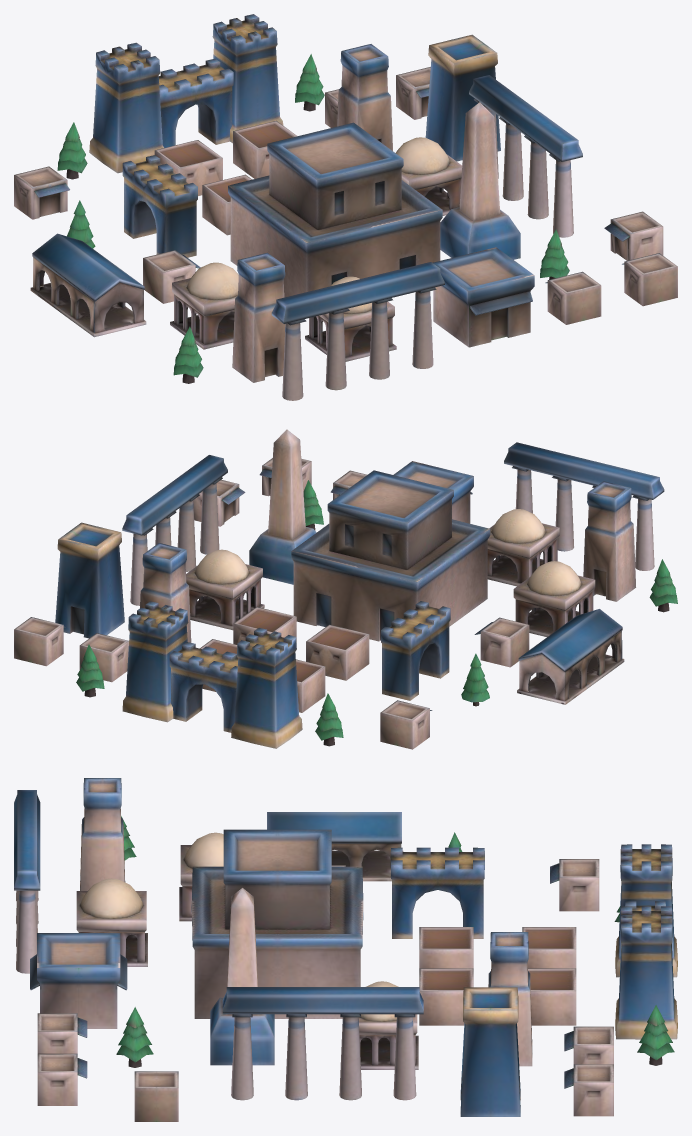
The model's file is city_babylonian_2.glb.
3 views of the same model, one above another, from view 1: azimuth 30°, elevation 25°; view 2: azimuth 150°, elevation 25°; view 3: azimuth 270°, elevation 25° (orthographic). The views are drawn at different scales.
Visible parts, largest first — view 1: 3_low.038, 1_low.019, 1_low.022, 3_low.052, 1_low.014, 3_low.036, 3_low.041, 2_low.023, 1_low.021, 3_low.053, 2_low.021, 2_low.027 (+17 smaller); view 2: 3_low.038, 1_low.019, 1_low.022, 3_low.053, 3_low.036, 1_low.014, 3_low.041, 1_low.021, 2_low.023, 2_low.036, 2_low.027, 2_low.021 (+17 smaller); view 3: 3_low.038, 1_low.014, 1_low.019, 3_low.052, 3_low.053, 2_low.023, 3_low.036, 3_low.041, 1_low.021, 1_low.022, 2_low.022, 1_low.016 (+14 smaller).
Part boxes in pixels (bbox=[...]): 3_low.038: bbox=[228, 122, 442, 297]; 1_low.019: bbox=[89, 14, 283, 173]; 1_low.022: bbox=[271, 262, 444, 400]; 3_low.052: bbox=[432, 247, 534, 347]; 1_low.014: bbox=[469, 75, 582, 237]; 3_low.036: bbox=[30, 233, 146, 337]; 3_low.041: bbox=[440, 102, 520, 259]; 2_low.023: bbox=[122, 155, 197, 257]; 1_low.021: bbox=[232, 252, 285, 382]; 3_low.053: bbox=[425, 34, 500, 161]; 2_low.021: bbox=[158, 58, 233, 147]; 2_low.027: bbox=[170, 262, 238, 349]; 3_low.038: bbox=[291, 470, 490, 641]; 1_low.019: bbox=[122, 601, 302, 748]; 1_low.022: bbox=[504, 442, 664, 570]; 3_low.053: bbox=[55, 522, 124, 638]; 3_low.036: bbox=[517, 609, 624, 704]; 1_low.014: bbox=[122, 455, 227, 605]; 3_low.041: bbox=[249, 429, 316, 584]; 1_low.021: bbox=[583, 481, 635, 601]; 2_low.023: bbox=[381, 601, 450, 700]; 2_low.036: bbox=[186, 549, 264, 630]; 2_low.027: bbox=[513, 561, 595, 636]; 2_low.021: bbox=[169, 642, 238, 732]; 3_low.038: bbox=[191, 829, 363, 1018]; 1_low.014: bbox=[222, 987, 423, 1100]; 1_low.019: bbox=[615, 844, 677, 1039]; 3_low.052: bbox=[30, 933, 127, 1028]; 3_low.053: bbox=[460, 987, 520, 1116]; 2_low.023: bbox=[390, 847, 484, 938]; 3_low.036: bbox=[267, 812, 403, 881]; 3_low.041: bbox=[210, 888, 274, 1065]; 1_low.021: bbox=[80, 778, 125, 890]; 1_low.022: bbox=[14, 790, 40, 973]; 2_low.022: bbox=[76, 878, 147, 966]; 1_low.016: bbox=[488, 932, 532, 1066].
Bounding box in the file's own units: 29.58 × 8.48 × 30.95.
3 materials, 3 textured.
